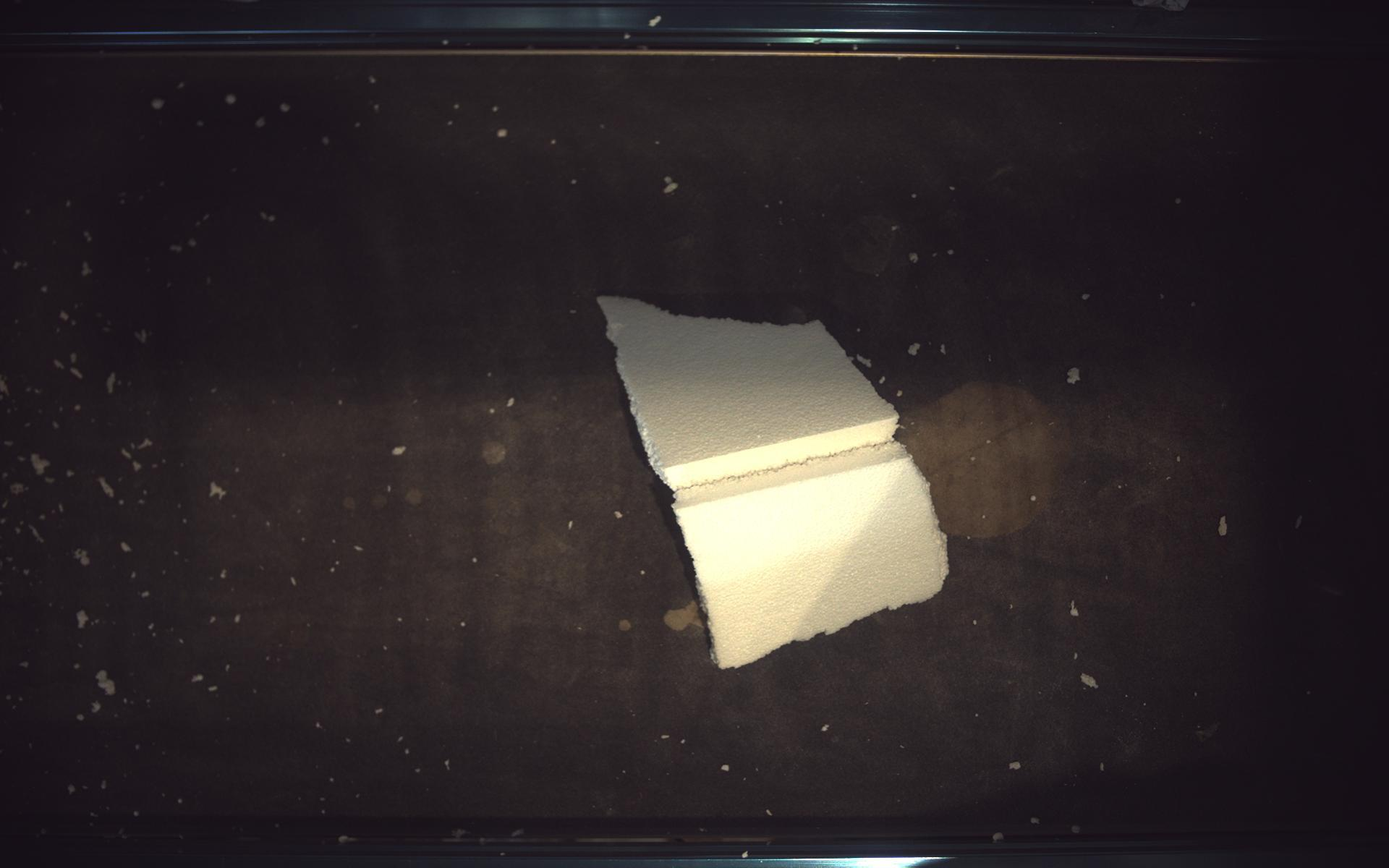foam: (598, 297, 949, 669)
